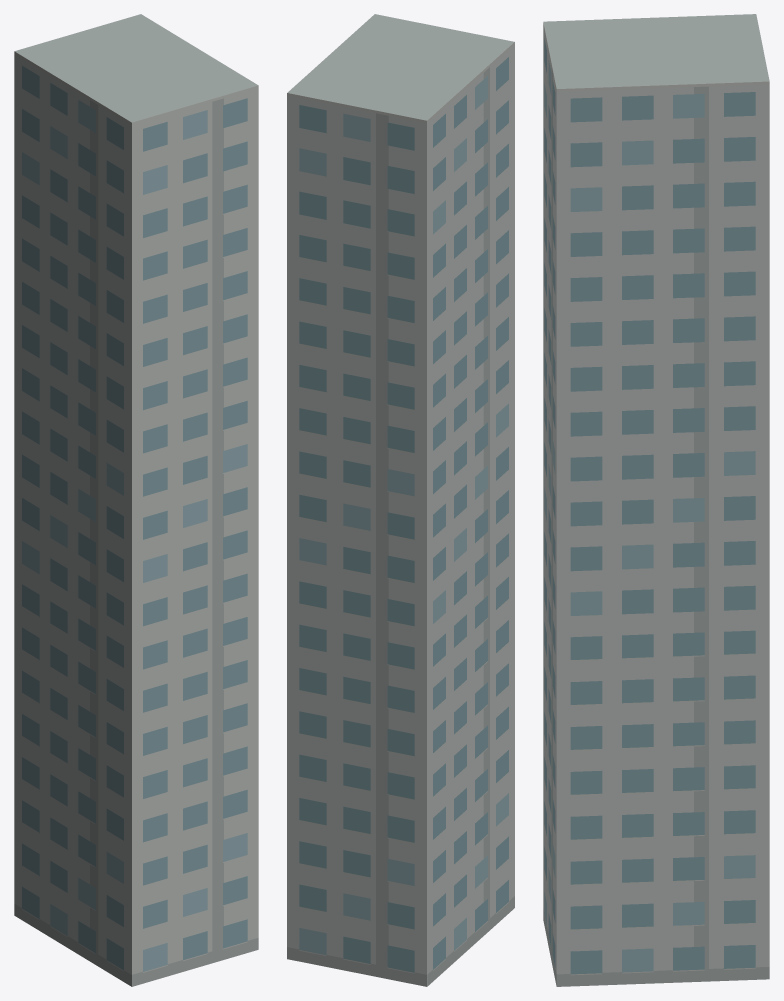
File: residential-9e24c128-9e10-4bb6-ae7f-43cde271cdf8.glb
The picture shows the model from 3 angles, left to right: view 1: azimuth 30°, elevation 25°; view 2: azimuth 150°, elevation 25°; view 3: azimuth 270°, elevation 25°; orthographic projection. The views are drawn at different scales.
Parts seen in each view (by area): view 1: residential-9e24c128-9e10-4bb6-ae7f-43cde271cdf8.tmp; view 2: residential-9e24c128-9e10-4bb6-ae7f-43cde271cdf8.tmp; view 3: residential-9e24c128-9e10-4bb6-ae7f-43cde271cdf8.tmp.
Part boxes in pixels (box(x1,y1,x2,y2)): residential-9e24c128-9e10-4bb6-ae7f-43cde271cdf8.tmp: box(14, 14, 258, 986); residential-9e24c128-9e10-4bb6-ae7f-43cde271cdf8.tmp: box(287, 14, 514, 986); residential-9e24c128-9e10-4bb6-ae7f-43cde271cdf8.tmp: box(543, 14, 769, 986).
Size of the model in its own units: 14.01 by 78 by 17.85.
